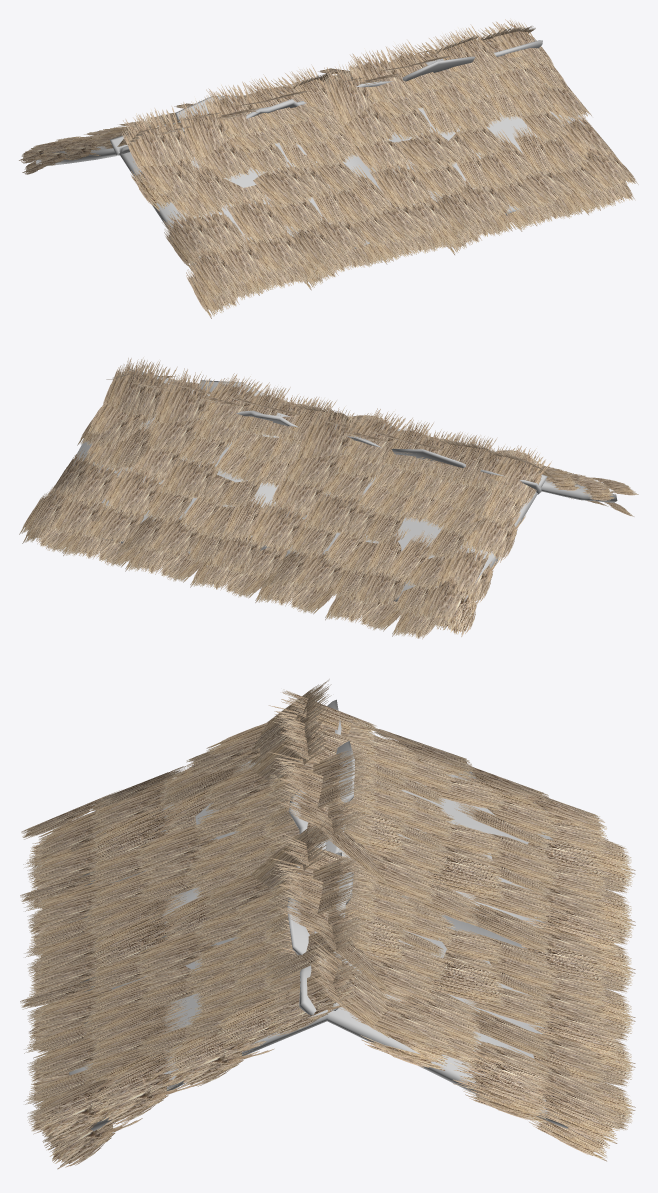
Rendered from jov_hovel_strawroof.fbx.
3 renders of one model, top to bottom at view 1: azimuth 30°, elevation 25°; view 2: azimuth 150°, elevation 25°; view 3: azimuth 270°, elevation 25°, orthographic. The views are drawn at different scales.
Visible parts, largest first — view 1: jov_hovel_strawroof1; view 2: jov_hovel_strawroof1; view 3: jov_hovel_strawroof1.
Part boxes in pixels (x1=…): jov_hovel_strawroof1: x1=19, y1=18, x2=638, y2=318; jov_hovel_strawroof1: x1=19, y1=357, x2=638, y2=639; jov_hovel_strawroof1: x1=20, y1=679, x2=635, y2=1169.
Size of the model in its own units: 840 by 245 by 677.
